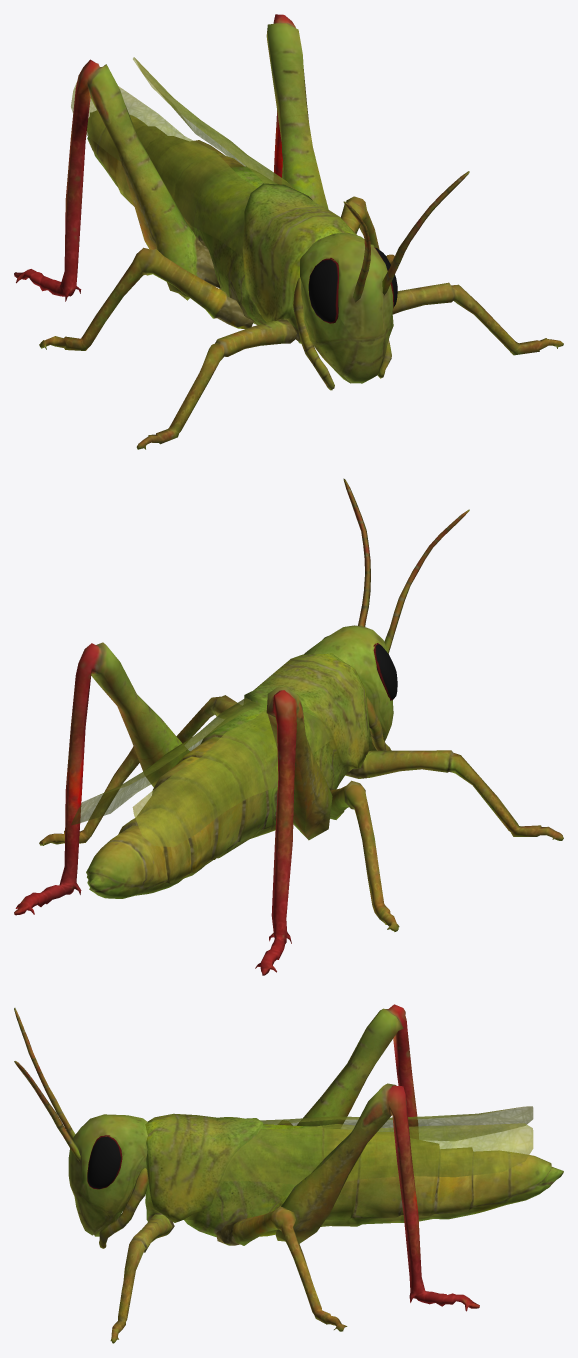
File: sceen_3_belalang_bagian1_2.glb
3 views of the same model, one above another, from view 1: azimuth 30°, elevation 25°; view 2: azimuth 150°, elevation 25°; view 3: azimuth 270°, elevation 25° (orthographic). The views are drawn at different scales.
Parts seen in each view (by area): view 1: Body_low, Limb_back_low, Wings_Low, Head_low, Limb_front_low, Limb_middle_low, Eyes_low, Antenna_low, Limb_head_low; view 2: Body_low, Limb_back_low, Wings_Low, Limb_front_low, Limb_middle_low, Head_low, Antenna_low, Eyes_low; view 3: Body_low, Wings_Low, Limb_back_low, Head_low, Limb_middle_low, Limb_front_low, Eyes_low, Antenna_low, Limb_head_low.
Boxes of the visible parts, x1,y1,x2,y2 form: Body_low: [87, 110, 357, 343]; Limb_back_low: [14, 14, 328, 301]; Wings_Low: [71, 57, 297, 256]; Head_low: [300, 232, 393, 383]; Limb_front_low: [136, 282, 563, 449]; Limb_middle_low: [39, 196, 394, 350]; Eyes_low: [308, 247, 397, 323]; Antenna_low: [343, 171, 469, 302]; Limb_head_low: [293, 278, 391, 390]; Body_low: [86, 653, 369, 898]; Limb_back_low: [14, 642, 332, 975]; Wings_Low: [71, 698, 330, 846]; Limb_front_low: [176, 695, 563, 840]; Limb_middle_low: [39, 746, 399, 931]; Head_low: [303, 625, 393, 750]; Antenna_low: [343, 478, 469, 653]; Eyes_low: [373, 643, 397, 700]; Body_low: [145, 1113, 563, 1237]; Wings_Low: [221, 1106, 533, 1184]; Limb_back_low: [275, 1004, 479, 1311]; Head_low: [68, 1114, 147, 1236]; Limb_middle_low: [216, 1120, 347, 1331]; Limb_front_low: [110, 1213, 174, 1343]; Eyes_low: [87, 1135, 122, 1189]; Antenna_low: [14, 1008, 80, 1161]; Limb_head_low: [99, 1168, 148, 1248].
Bounding box in the file's own units: 1.55 × 0.8947 × 2.
Materials: 1 (1 with a texture image).
